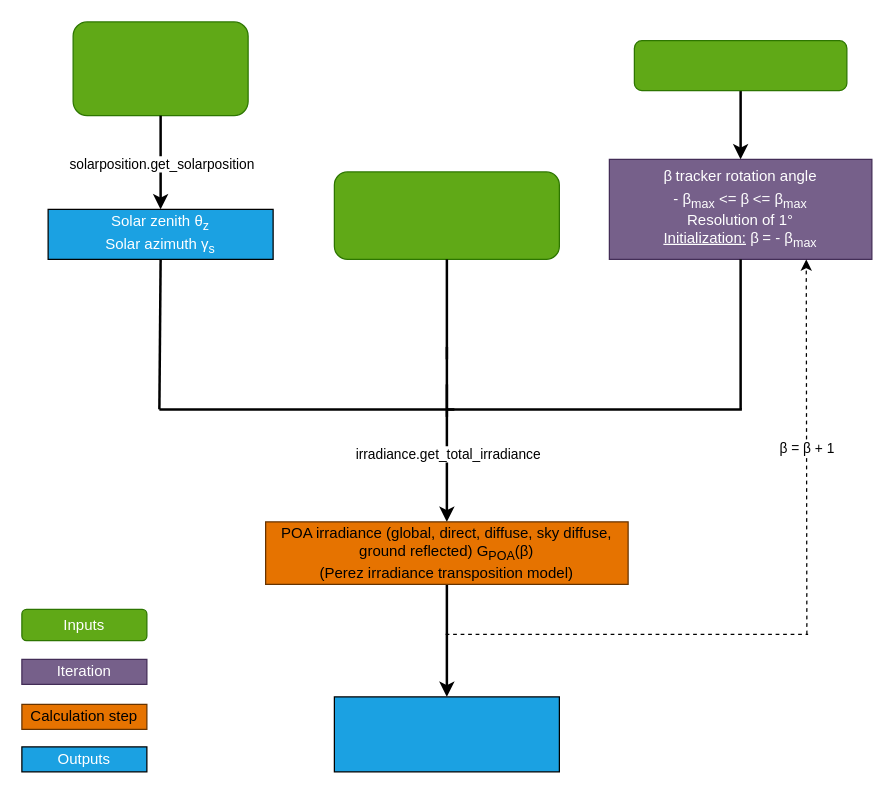
This 894x794 diagram has some shape labels left out. The centre of each missing label's shape, as x and y in pixels:
Maximum rotation angle β max: the point at 740,65
Optimal rotation angle β opt POA irradiance G POA,opt: the point at 446,734
Timeseries Longitude λ Latitude Φ Altitude z: the point at 160,68
Tracker/axis azimuth γ a Tracker/axis tilt β a Real weather data GHI: the point at 446,215
